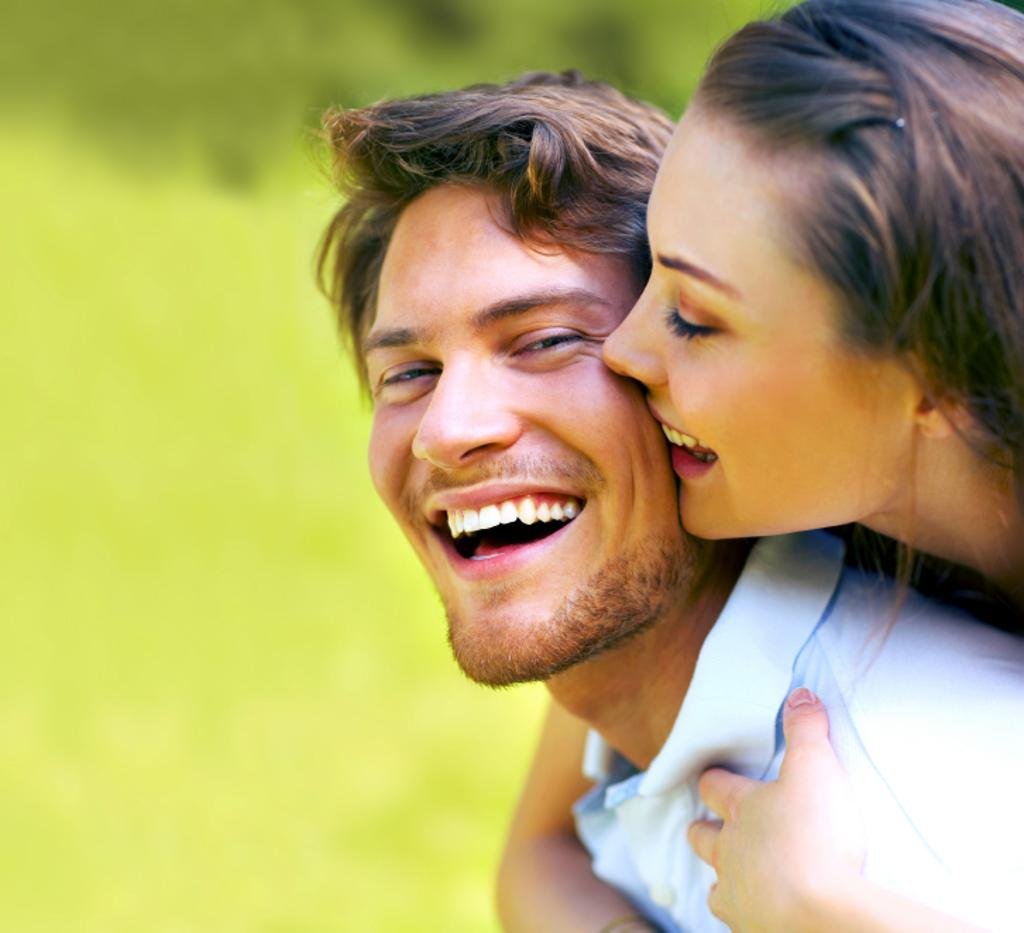face: (366, 184, 686, 682), (600, 86, 864, 546)
